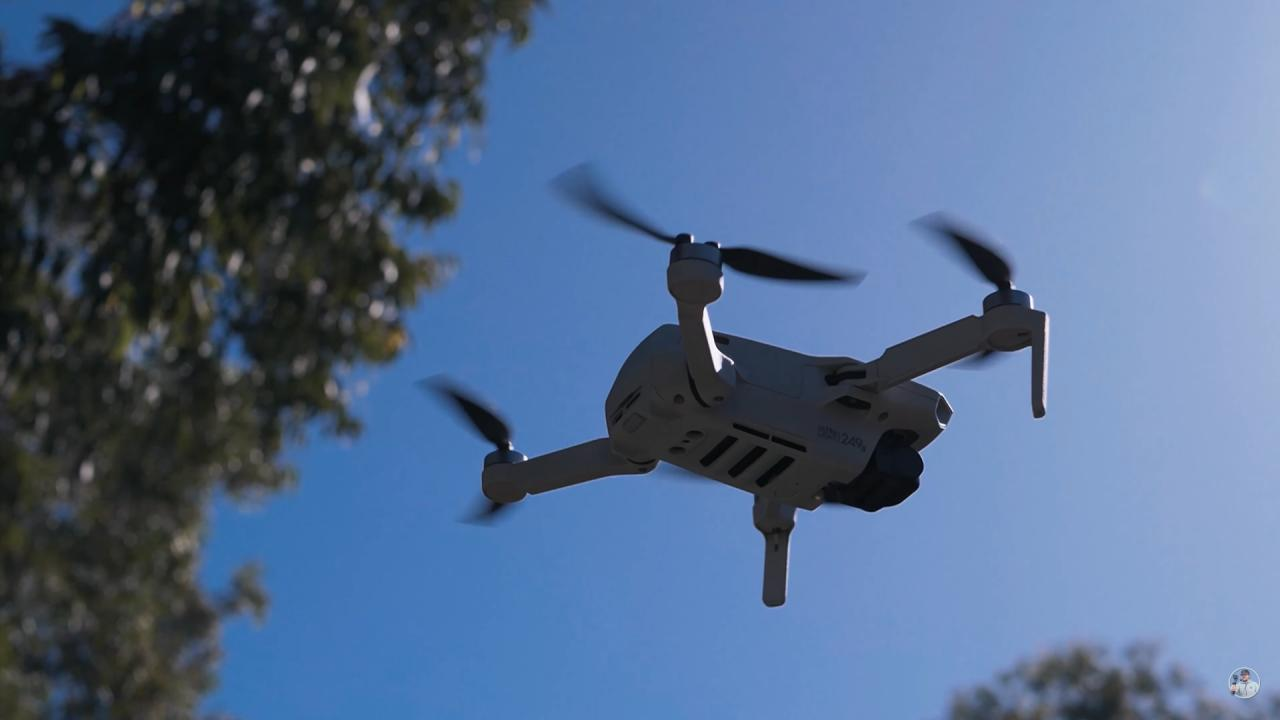Drone: (391, 137, 1072, 635)
